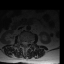CCS_normal: (24, 39, 26, 47)
LFS_normal: (28, 40, 30, 46)
LLS_normal: (26, 40, 28, 46)
RFS_normal: (20, 40, 22, 45)
RLS_normal: (22, 40, 24, 46)
